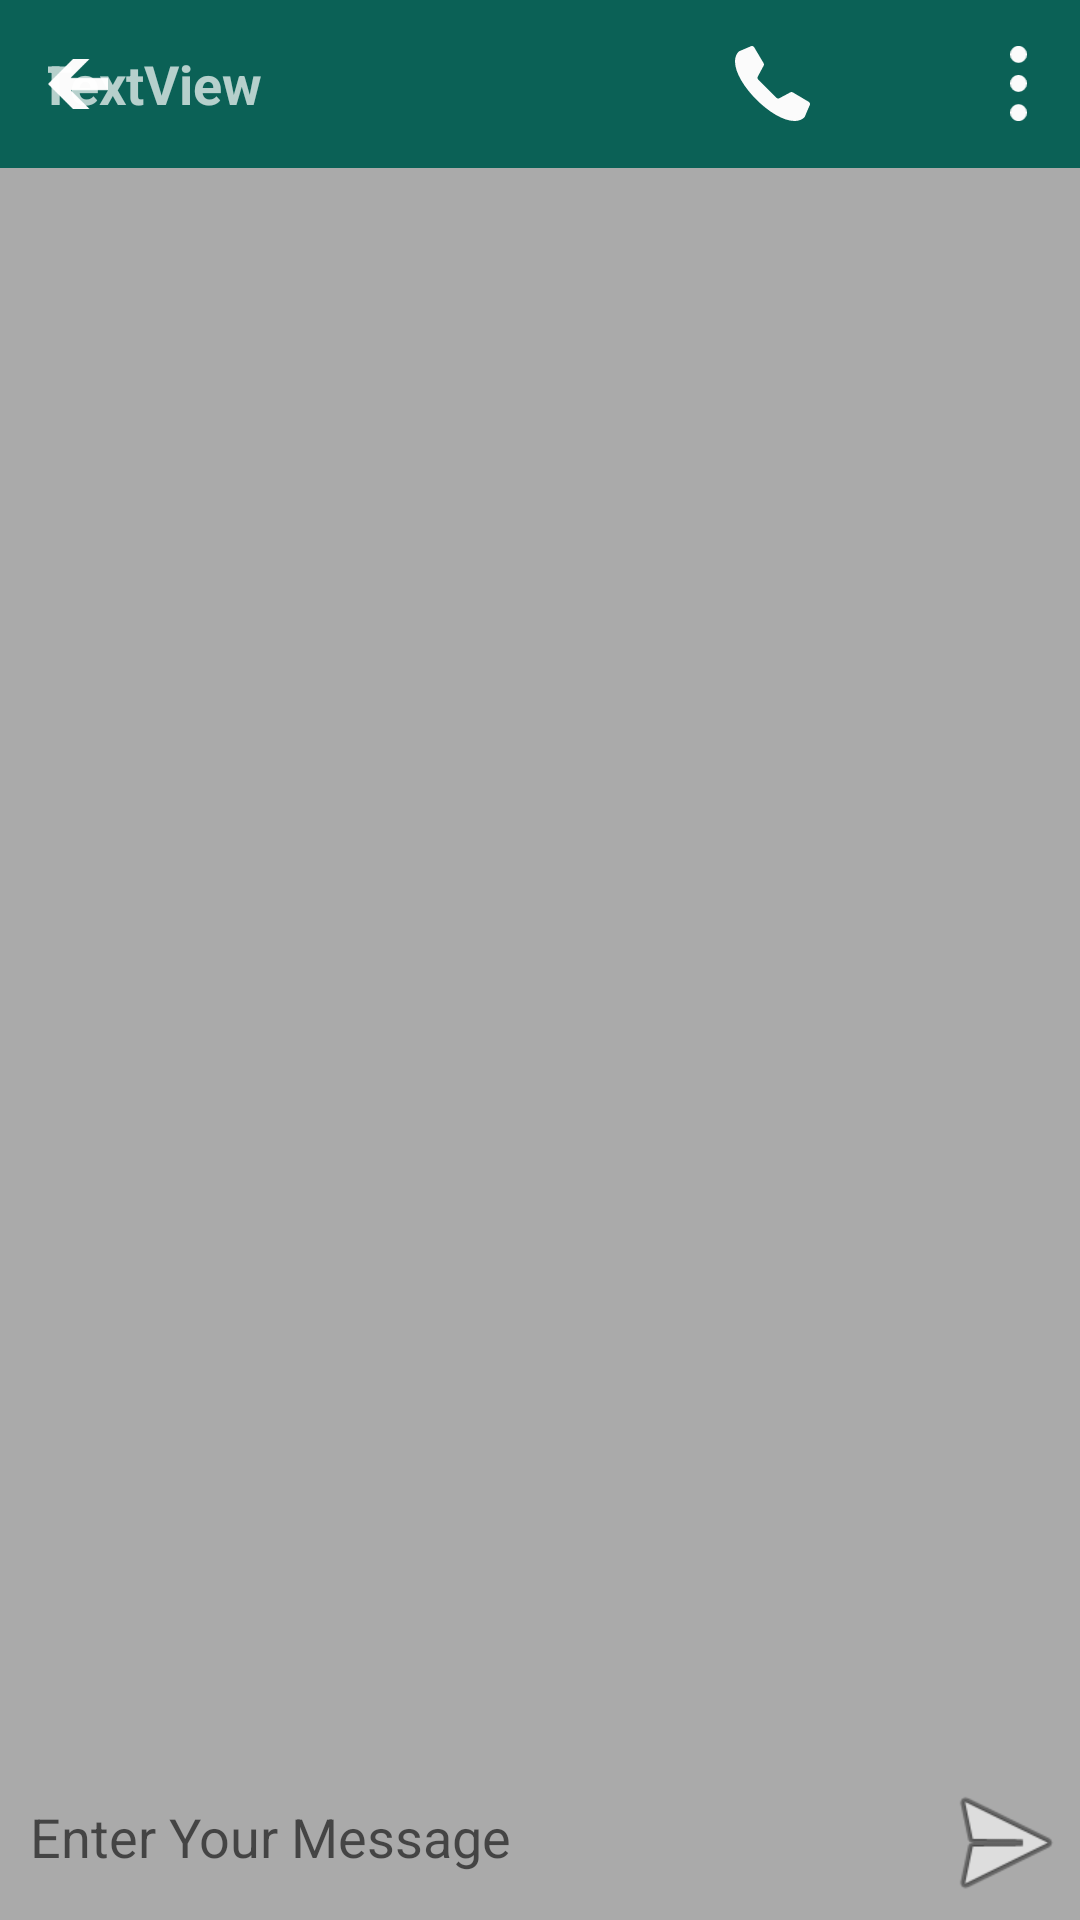

Locate icon controls on the screen. Image size 1080 × 1920, boxes as (x1, y1, x2, y2).
call: (735, 46, 810, 121)
menu: (1010, 46, 1027, 121)
send: (960, 1797, 1052, 1888)
